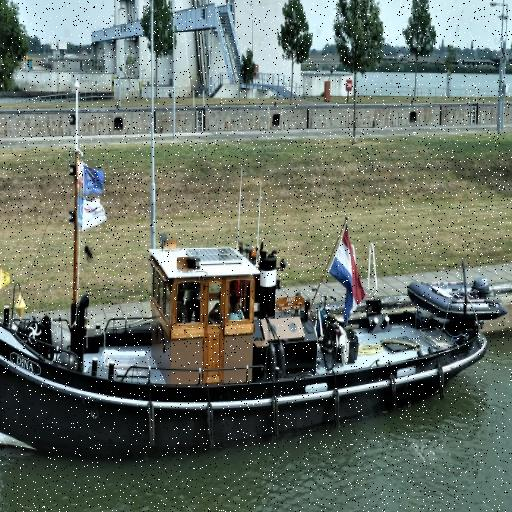tugboat: (1, 219, 512, 466)
